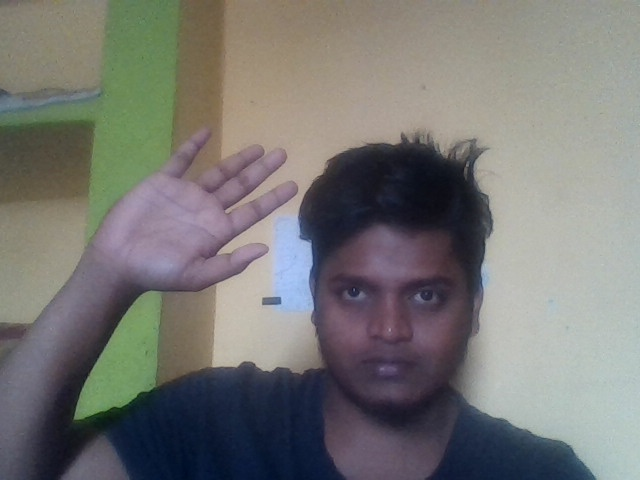Hello: (87, 125, 306, 302)
